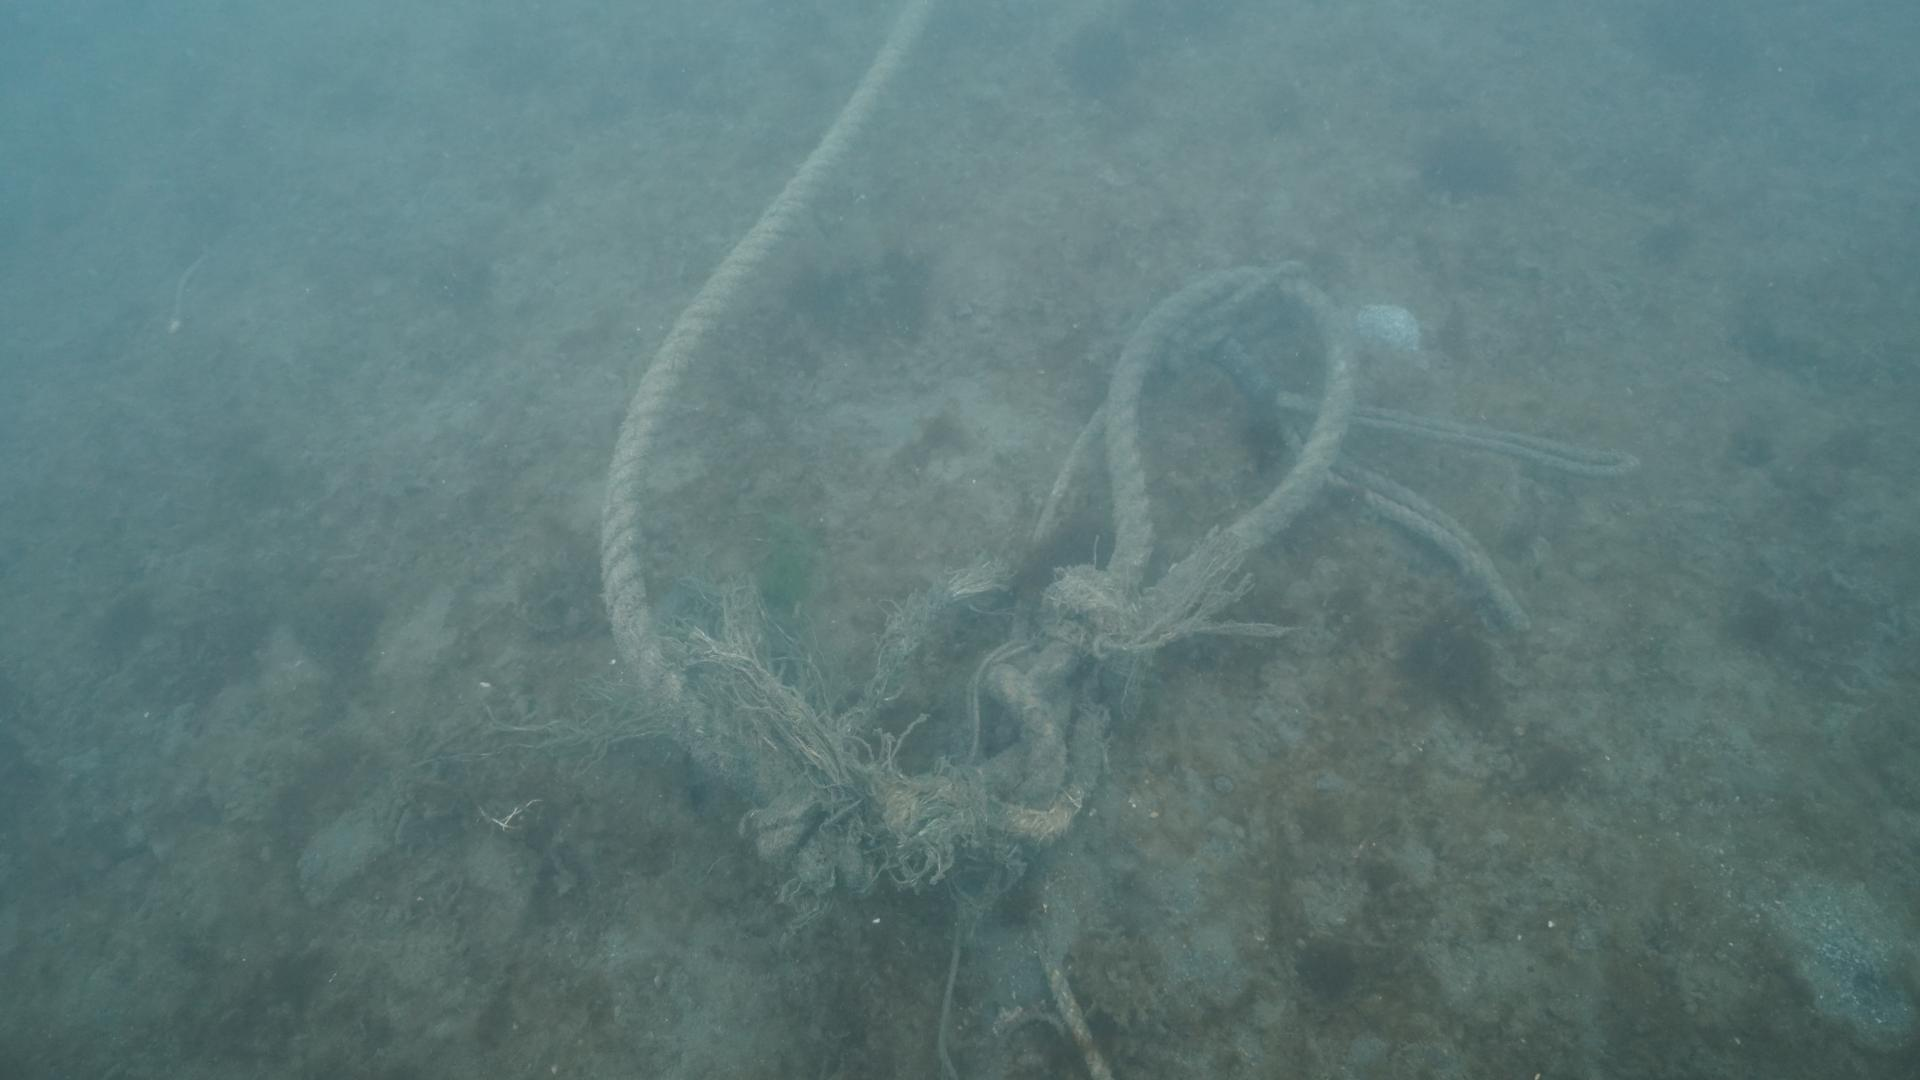bundle of ropes: (592, 0, 1644, 1080)
